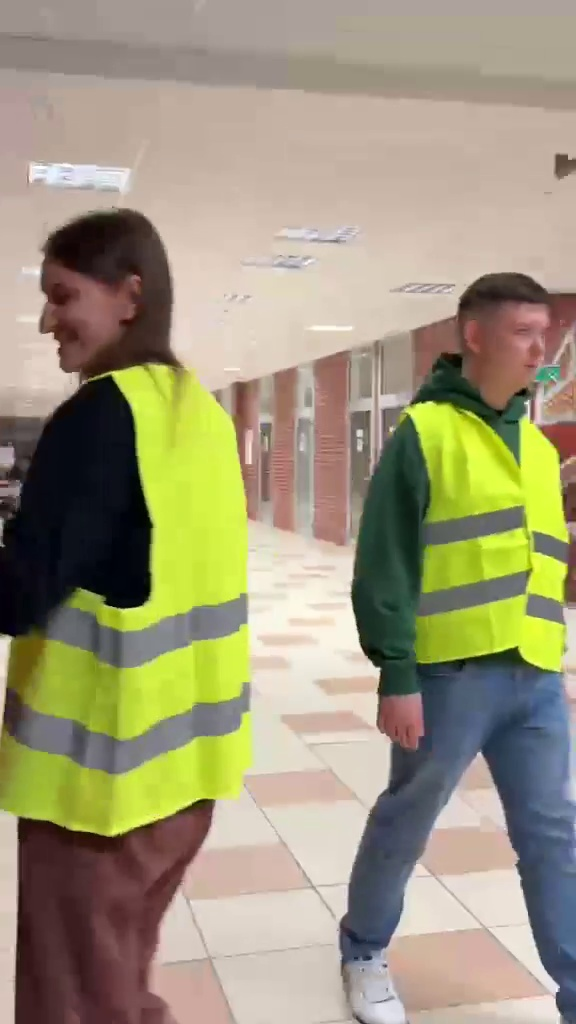vest: (0, 205, 250, 999), (354, 269, 576, 1001)
